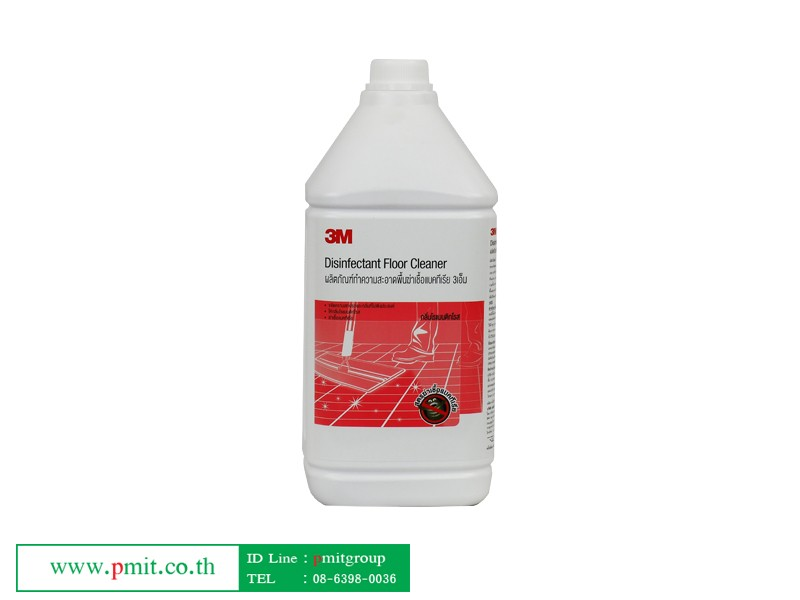Cleaning_solution: (299, 52, 504, 513)
